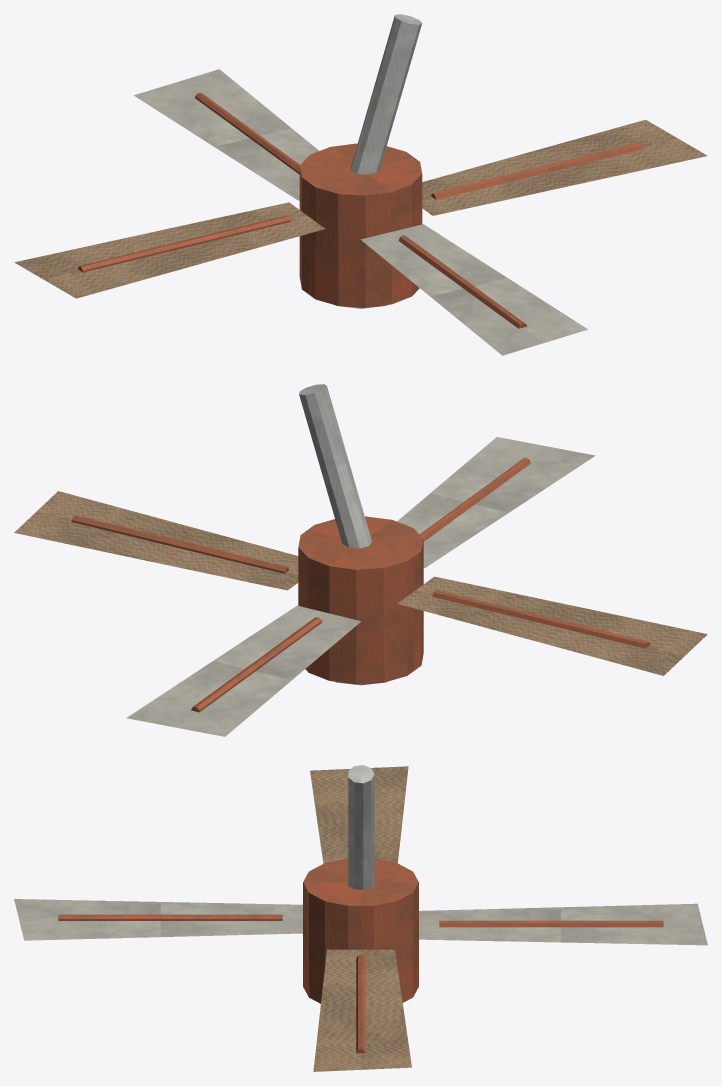
File: broken_ceiling_fan.glb
The picture shows the model from 3 angles, top to bottom: view 1: azimuth 30°, elevation 25°; view 2: azimuth 150°, elevation 25°; view 3: azimuth 270°, elevation 25°; orthographic projection. The views are drawn at different scales.
Visible parts, largest first — view 1: InteriorPropGeometry; view 2: InteriorPropGeometry; view 3: InteriorPropGeometry.
Part boxes in pixels (left/top/right/bottom): InteriorPropGeometry: left=14, top=14, right=707, bottom=355; InteriorPropGeometry: left=14, top=384, right=707, bottom=736; InteriorPropGeometry: left=14, top=765, right=707, bottom=1071.
Size of the model in its own units: 2.04 by 0.8222 by 2.04.
Materials: 5 (5 with a texture image).
